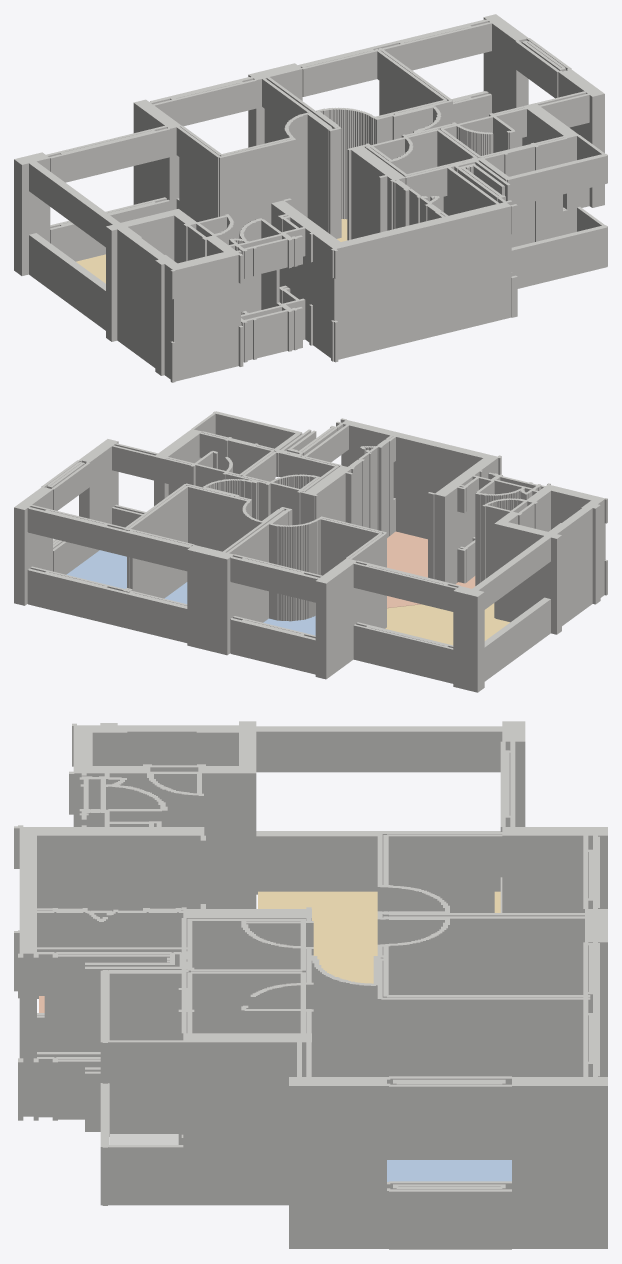
The picture shows the model from 3 angles, top to bottom: view 1: azimuth 30°, elevation 25°; view 2: azimuth 150°, elevation 25°; view 3: azimuth 270°, elevation 25°; orthographic projection. The views are drawn at different scales.
Visible parts, largest first — view 1: walls, room:living:8; view 2: walls, room:living:8, room:kitchen:2, room:bedroom:6, room:bedroom:9; view 3: walls, room:living:8, room:bedroom:6, room:ledge:3.
Part boxes in pixels (left/top/right/bottom): walls: left=14, top=14, right=607, bottom=382; room:living:8: left=76, top=219, right=347, bottom=283; walls: left=14, top=411, right=607, bottom=692; room:living:8: left=385, top=603, right=509, bottom=645; room:kitchen:2: left=387, top=531, right=475, bottom=608; room:bedroom:6: left=66, top=550, right=126, bottom=588; room:bedroom:9: left=263, top=616, right=315, bottom=635; walls: left=14, top=721, right=607, bottom=1249; room:living:8: left=258, top=891, right=500, bottom=983; room:bedroom:6: left=387, top=1160, right=511, bottom=1181; room:ledge:3: left=110, top=1134, right=178, bottom=1144.
Size of the model in its own units: 13.46 by 2.8 by 9.25.
